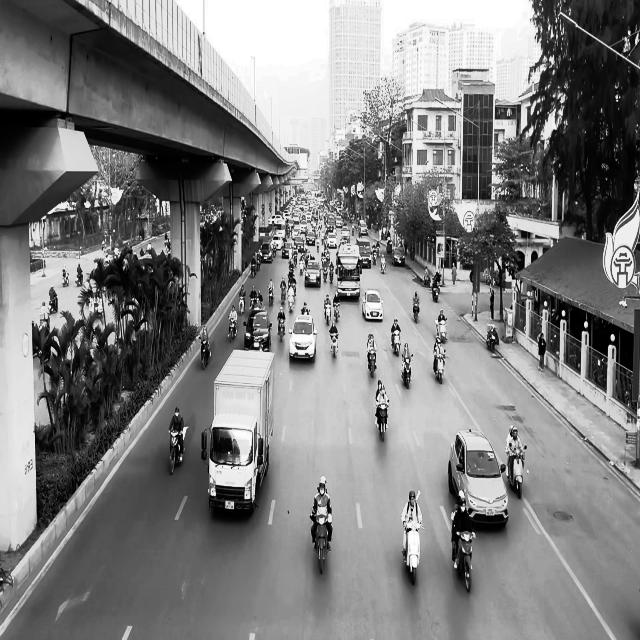car: (448, 428, 509, 527), (288, 314, 318, 362), (243, 309, 273, 352), (362, 289, 384, 321), (304, 260, 322, 288), (392, 247, 405, 266)
motorbike: (453, 529, 476, 592), (402, 520, 424, 585), (310, 512, 332, 574), (506, 444, 527, 499), (169, 426, 188, 475), (375, 399, 390, 441), (401, 354, 414, 389), (433, 349, 446, 383), (200, 335, 212, 370), (486, 324, 497, 352), (436, 318, 447, 342), (368, 350, 377, 378), (392, 329, 401, 356), (228, 318, 238, 342), (329, 332, 338, 358), (278, 316, 286, 341), (49, 291, 58, 313), (413, 300, 420, 322), (432, 283, 440, 302), (62, 272, 69, 286)
truck: (201, 348, 276, 515)
